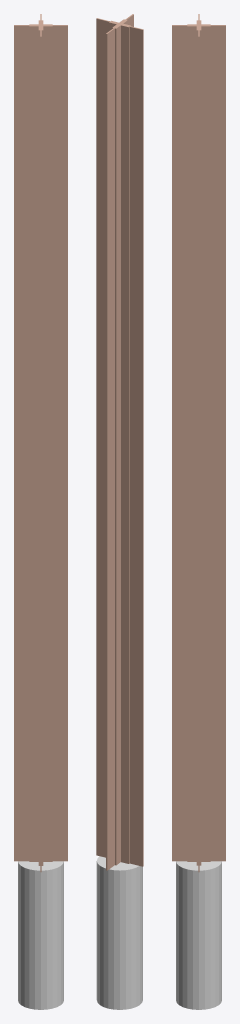
3 renders of one model, left to right at view 1: azimuth 90°, elevation 25°; view 2: azimuth 150°, elevation 25°; view 3: azimuth 270°, elevation 25°, orthographic.
Parts seen in each view (by area): view 1: imagetostl_mesh0, imagetostl_mesh17, imagetostl_mesh14, imagetostl_mesh27, imagetostl_mesh18, imagetostl_mesh24, imagetostl_mesh3, imagetostl_mesh46, imagetostl_mesh49, imagetostl_mesh45, imagetostl_mesh47, imagetostl_mesh48 (+6 smaller); view 2: imagetostl_mesh20, imagetostl_mesh11, imagetostl_mesh12, imagetostl_mesh17, imagetostl_mesh14, imagetostl_mesh19, imagetostl_mesh4, imagetostl_mesh50, imagetostl_mesh51, imagetostl_mesh52, imagetostl_mesh53, imagetostl_mesh49 (+10 smaller); view 3: imagetostl_mesh8, imagetostl_mesh25, imagetostl_mesh23, imagetostl_mesh28, imagetostl_mesh9, imagetostl_mesh22, imagetostl_mesh2, imagetostl_mesh37, imagetostl_mesh58, imagetostl_mesh35, imagetostl_mesh36, imagetostl_mesh38 (+6 smaller).
Part boxes in pixels (x1,y1,x2,y2): imagetostl_mesh0: [52, 25, 67, 861]; imagetostl_mesh17: [14, 25, 29, 861]; imagetostl_mesh14: [29, 26, 38, 861]; imagetostl_mesh27: [43, 26, 52, 861]; imagetostl_mesh18: [41, 30, 43, 865]; imagetostl_mesh24: [38, 30, 40, 865]; imagetostl_mesh3: [40, 36, 41, 872]; imagetostl_mesh46: [47, 869, 52, 1009]; imagetostl_mesh49: [29, 869, 34, 1009]; imagetostl_mesh45: [52, 868, 57, 1008]; imagetostl_mesh47: [41, 870, 46, 1009]; imagetostl_mesh48: [35, 870, 40, 1009]; imagetostl_mesh20: [129, 27, 142, 866]; imagetostl_mesh11: [96, 18, 109, 857]; imagetostl_mesh12: [121, 25, 128, 863]; imagetostl_mesh17: [107, 28, 114, 870]; imagetostl_mesh14: [116, 25, 120, 864]; imagetostl_mesh19: [115, 28, 116, 865]; imagetostl_mesh4: [106, 34, 107, 870]; imagetostl_mesh50: [126, 869, 131, 1009]; imagetostl_mesh51: [120, 870, 125, 1009]; imagetostl_mesh52: [114, 870, 119, 1009]; imagetostl_mesh53: [108, 869, 113, 1009]; imagetostl_mesh49: [131, 868, 136, 1008]; imagetostl_mesh8: [172, 25, 187, 861]; imagetostl_mesh25: [210, 25, 225, 861]; imagetostl_mesh23: [201, 26, 210, 861]; imagetostl_mesh28: [187, 26, 196, 861]; imagetostl_mesh9: [196, 30, 198, 865]; imagetostl_mesh22: [199, 30, 201, 865]; imagetostl_mesh2: [198, 36, 199, 872]; imagetostl_mesh37: [187, 869, 192, 1009]; imagetostl_mesh58: [205, 869, 210, 1009]; imagetostl_mesh35: [199, 870, 204, 1009]; imagetostl_mesh36: [193, 870, 198, 1009]; imagetostl_mesh38: [182, 868, 187, 1008].
Bounding box in the file's own units: 0.2756 × 5.51 × 0.2756.
